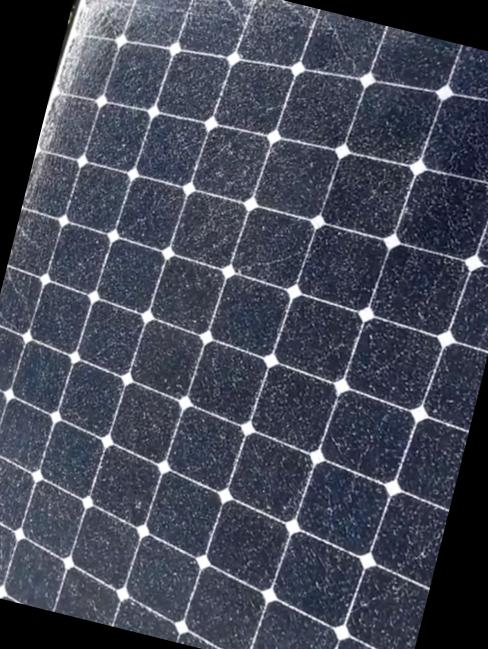Crack: (32, 0, 141, 189)
